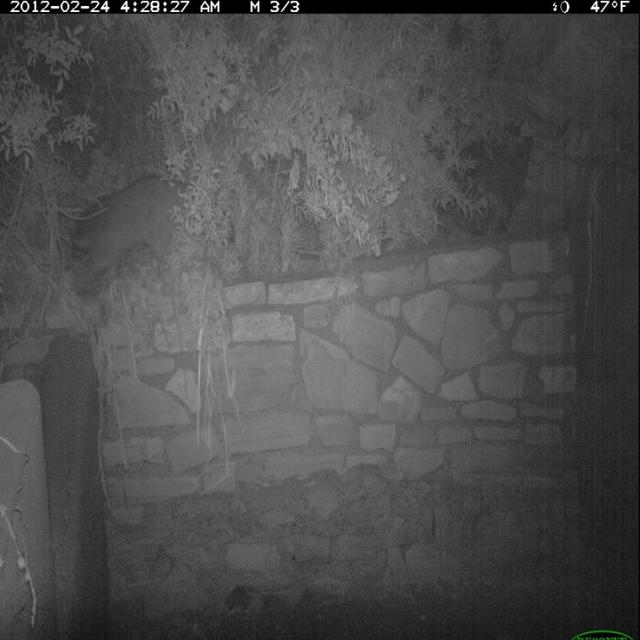raccoon: (68, 170, 238, 286)
